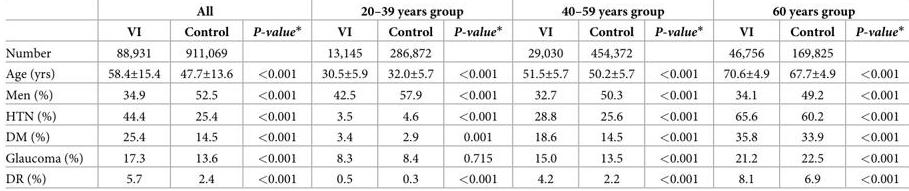table: (4, 4, 903, 185)
table column: (4, 4, 95, 185), (95, 4, 169, 185), (169, 4, 242, 185), (242, 4, 311, 185), (443, 4, 511, 185), (644, 4, 712, 185), (511, 4, 578, 185), (712, 4, 779, 185), (311, 4, 377, 185), (377, 4, 443, 185), (578, 4, 644, 185), (779, 4, 845, 185), (845, 4, 903, 185)
table column header: (4, 4, 903, 43)
table row: (4, 20, 903, 43), (4, 62, 903, 85), (4, 105, 903, 126), (4, 126, 903, 147), (4, 147, 903, 168), (4, 85, 903, 105), (4, 43, 903, 62), (4, 168, 903, 185), (4, 4, 903, 20)
table spanning cell: (95, 4, 311, 20), (511, 4, 712, 20), (311, 4, 511, 20), (712, 4, 903, 20)
